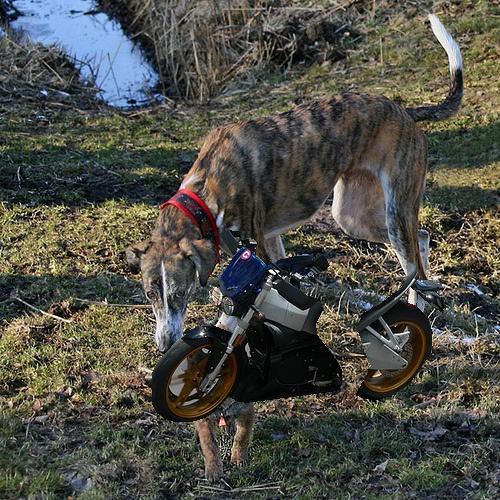tampered: (152, 230, 446, 422)
